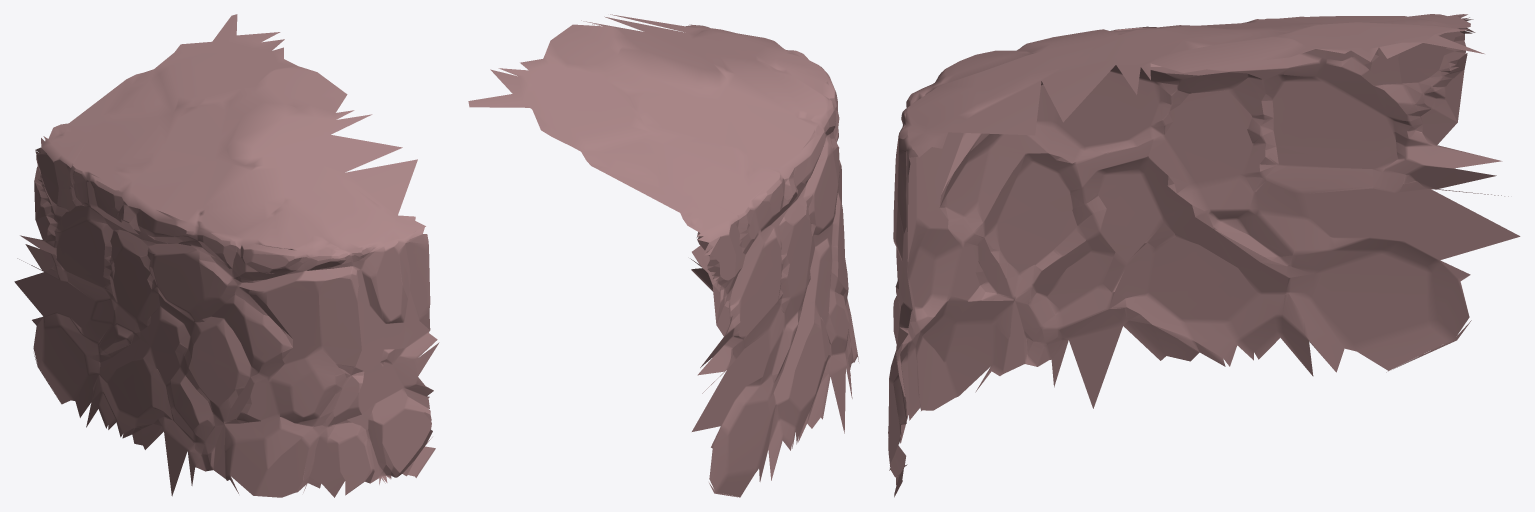
File: plateau.fbx_Rock_Plateau_002LODs.fbx
The picture shows the model from 3 angles, left to right: view 1: azimuth 30°, elevation 25°; view 2: azimuth 150°, elevation 25°; view 3: azimuth 270°, elevation 25°; orthographic projection. The views are drawn at different scales.
Visible parts, largest first — view 1: Rock Plateau.002_LOD0; view 2: Rock Plateau.002_LOD0; view 3: Rock Plateau.002_LOD0.
Boxes of the visible parts, <box> form: Rock Plateau.002_LOD0: <box>14,14,439,497</box>; Rock Plateau.002_LOD0: <box>468,14,858,497</box>; Rock Plateau.002_LOD0: <box>888,14,1520,497</box>.
Size of what is drawn, in the model's own units: 3077 by 4183 by 4796.
